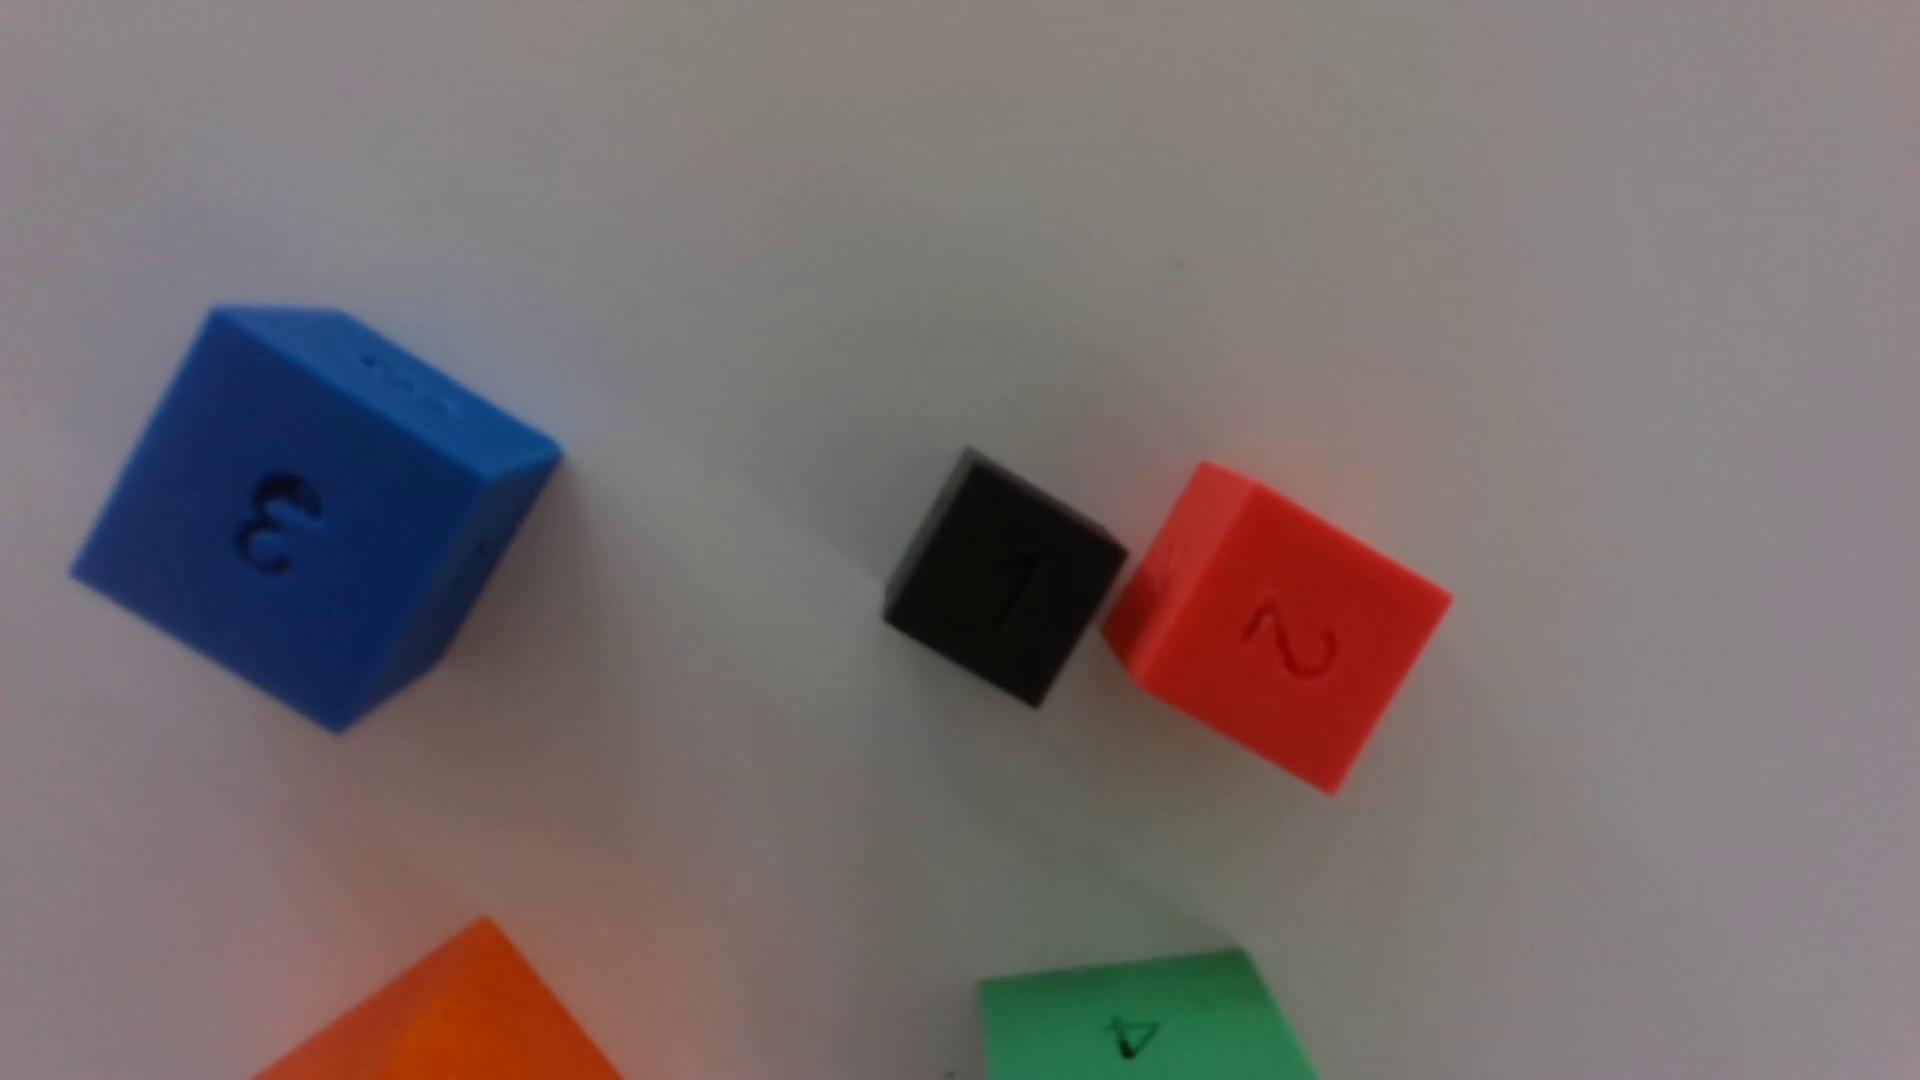black: (882, 451, 1127, 708)
blue: (73, 306, 562, 733)
green: (978, 949, 1316, 1080)
orange: (256, 919, 621, 1080)
red: (1104, 463, 1449, 793)
